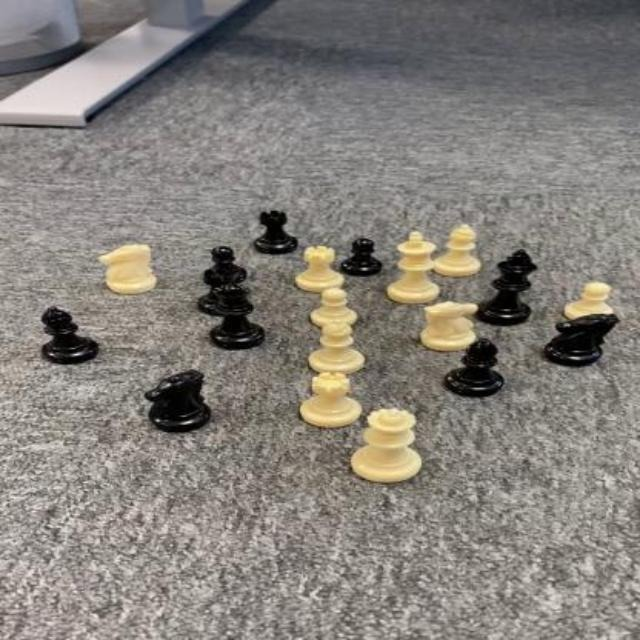black-bishop: (444, 338, 508, 398), (40, 306, 101, 364)
black-king: (473, 249, 537, 327)
black-knight: (142, 369, 211, 435), (542, 313, 622, 368)
black-pawn: (202, 245, 249, 285), (340, 237, 384, 275)
black-queen: (206, 284, 266, 350)
black-rook: (195, 268, 241, 315), (253, 210, 299, 254)
white-bishop: (302, 319, 371, 375), (432, 225, 482, 277)
white-king: (386, 231, 441, 304)
white-knight: (100, 241, 158, 294), (420, 300, 481, 350)
white-pawn: (562, 281, 617, 325), (308, 287, 360, 327)
white-queen: (348, 407, 424, 485)
white-rook: (299, 371, 363, 429), (292, 245, 347, 291)
